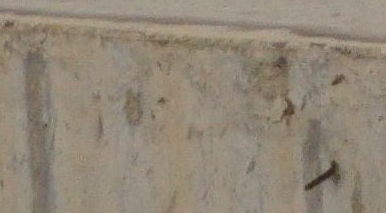Exposed reinforcement: (304, 165, 336, 192)
